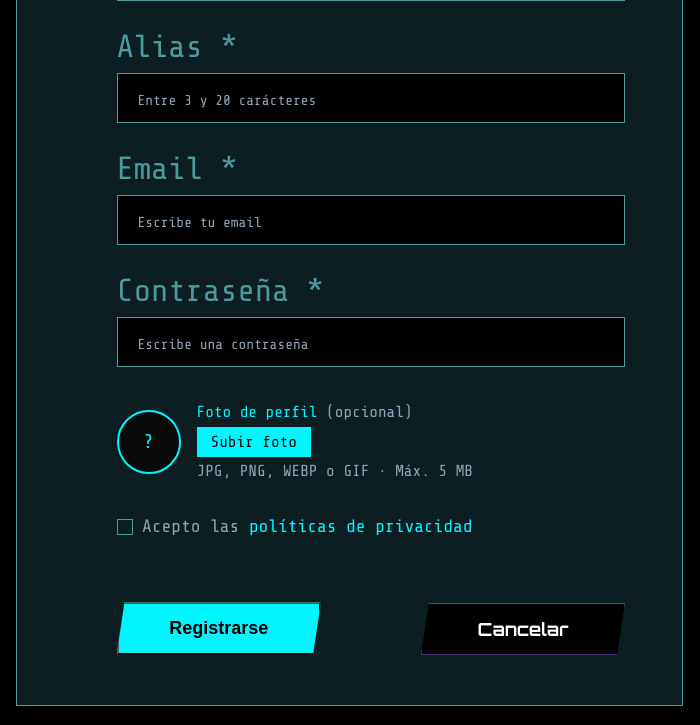
it: RegisterForm — Cobertura completa › muestra error de nombre obligatorio al enviar vacío
This screenshot has width=700, height=725.
(page scrolled)
Click the button "Registrarse" at (219, 629), box [116,602,321,655]
(page scrolled)
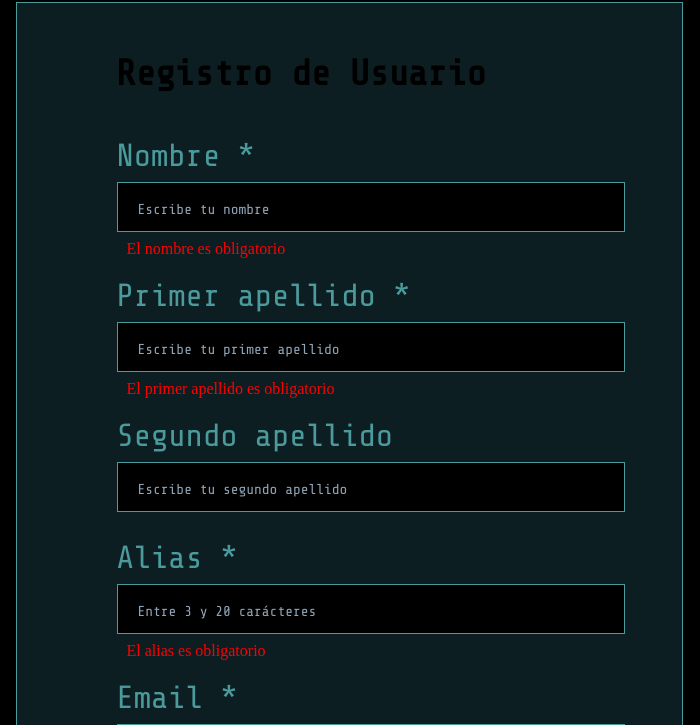
Result: the text "El nombre es obligatorio" is shown at [126,240,285,257]
